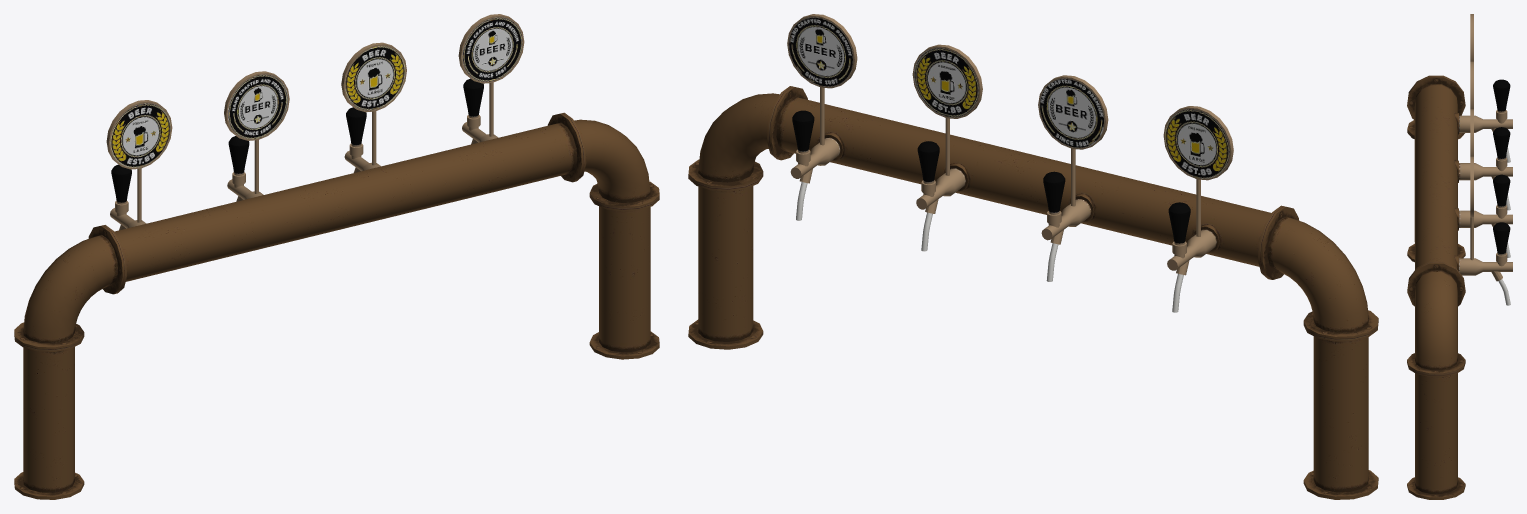
The picture shows the model from 3 angles, left to right: view 1: azimuth 30°, elevation 25°; view 2: azimuth 150°, elevation 25°; view 3: azimuth 270°, elevation 25°; orthographic projection. The views are drawn at different scales.
Visible parts, largest first — view 1: re_beer_tower_01_lo; view 2: re_beer_tower_01_lo; view 3: re_beer_tower_01_lo.
Boxes of the visible parts, <box> form: re_beer_tower_01_lo: <box>14,14,659,499</box>; re_beer_tower_01_lo: <box>688,14,1378,499</box>; re_beer_tower_01_lo: <box>1407,14,1512,499</box>.
Bounding box in the file's own units: 2 × 1.02 × 0.3465.
Materials: 1 (1 with a texture image).
